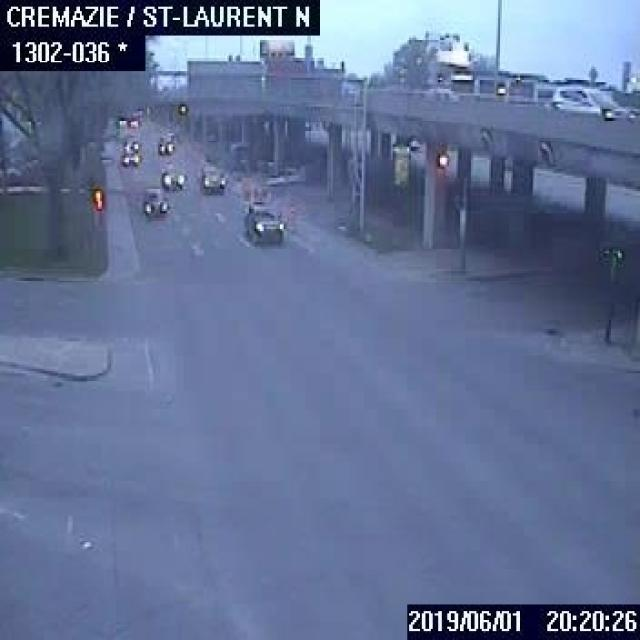construction: (285, 206, 293, 226)
vehicle: (547, 80, 624, 116), (243, 206, 285, 247), (198, 162, 227, 196), (138, 188, 165, 213), (118, 138, 142, 166), (160, 163, 186, 188), (157, 131, 175, 156)
